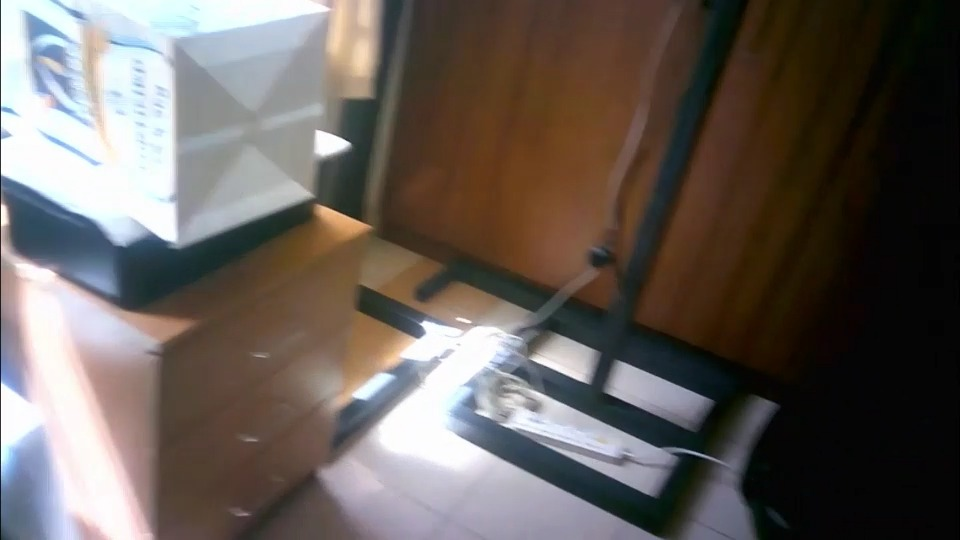wheat_flour_blue_label: (0, 2, 316, 243)
